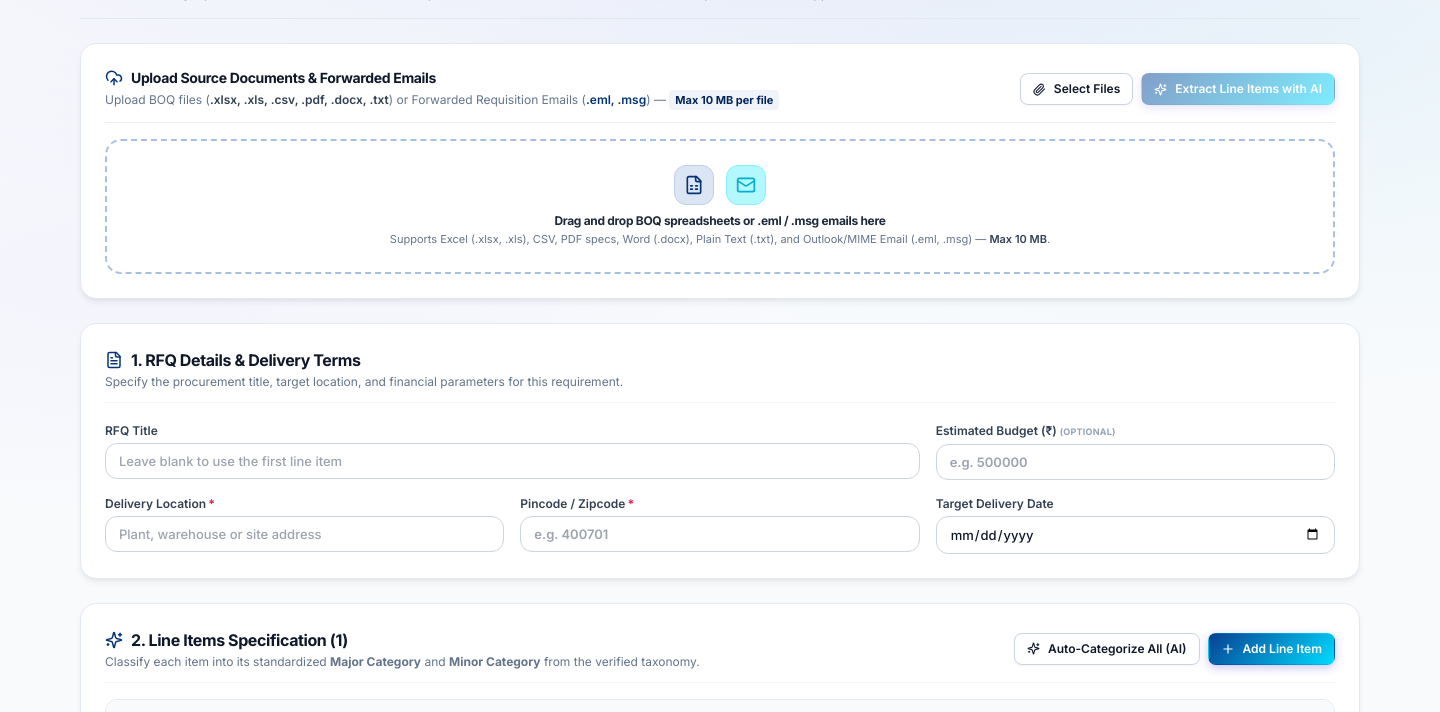
Scenario: IngestionWizard (Direct Manual Form with Top Document Upload) › allows adding, editing, and deleting line items in the table
The image size is (1440, 712).
# Click Add Line Item
Step 1. Click the button "Add Line Item" → click(1271, 648), box [1208, 632, 1335, 664]
(page scrolled)
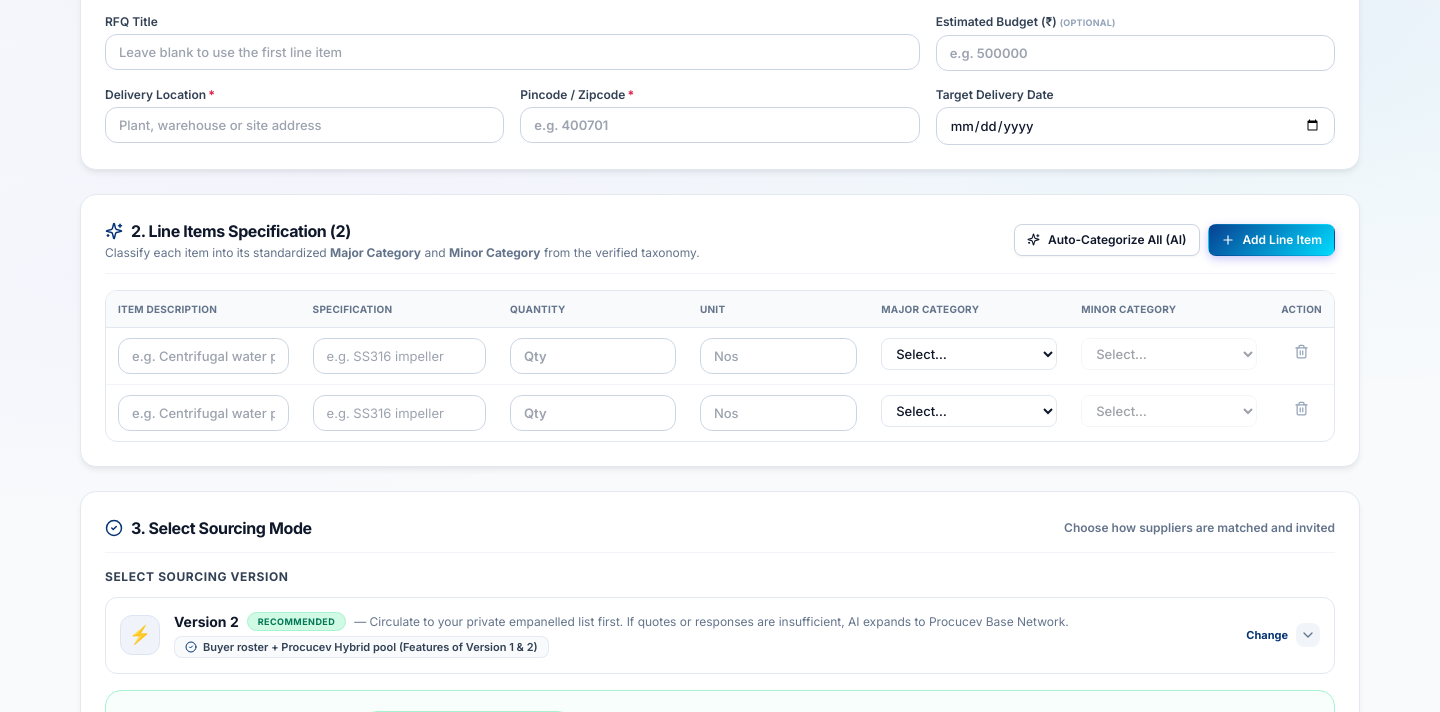
Check: the number of fields with placeholder "e.g. Centrifugal water pump" is 2
Step 2. Type "Ball Valves 2 inch" into the 1st field with placeholder "e.g. Centrifugal water pump" → (203, 356), box [118, 338, 289, 374]
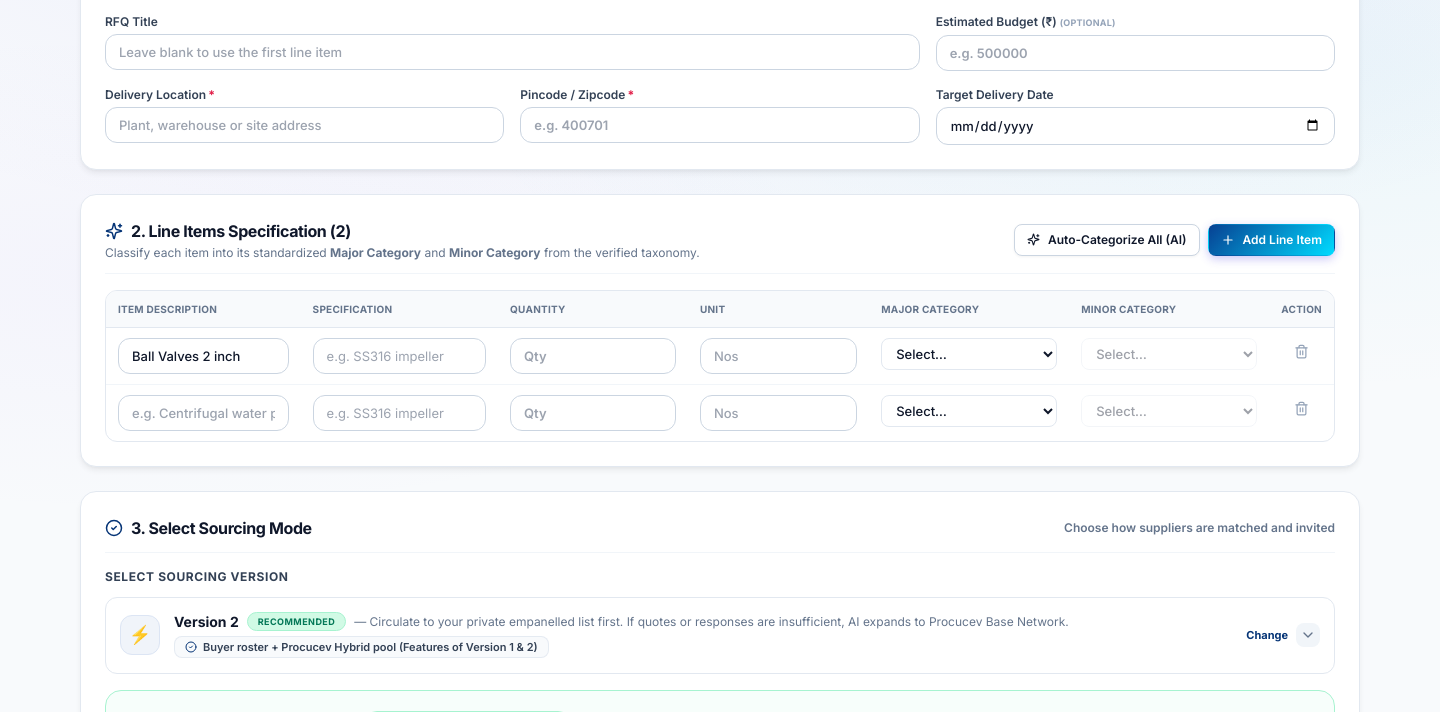
# Remove the second item
Step 3. Click the 2nd button titled "Remove line item" → click(1302, 408), box [1288, 394, 1315, 422]
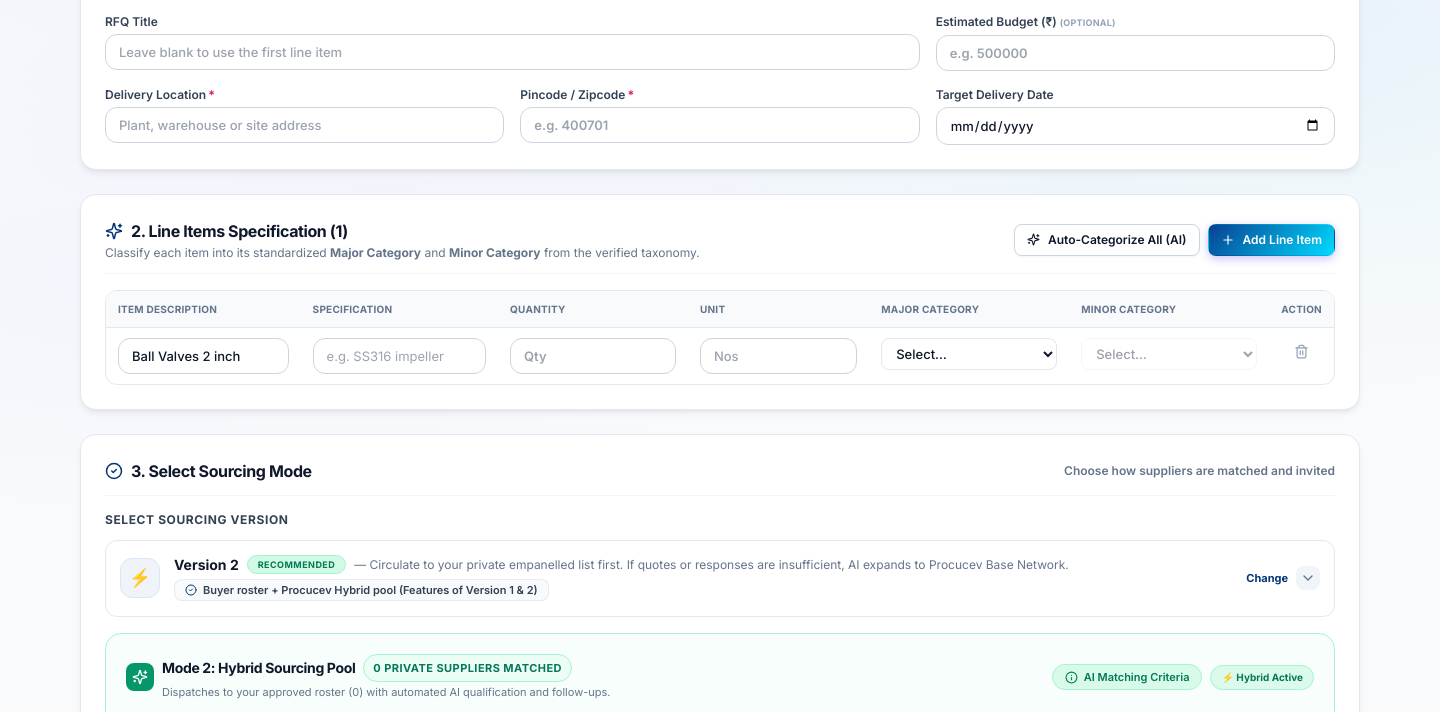
Check: the number of fields with placeholder "e.g. Centrifugal water pump" is 1, box [118, 338, 289, 374]
